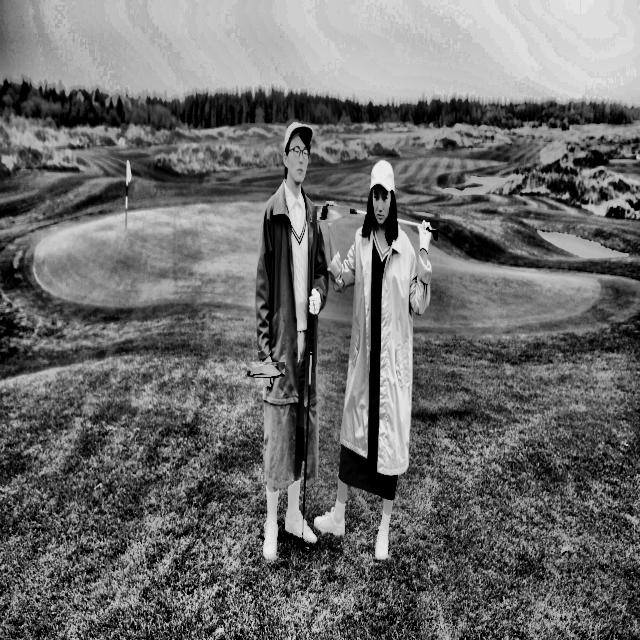gloved: (317, 200, 345, 228), (252, 356, 280, 384), (418, 215, 434, 263), (306, 283, 324, 321)
